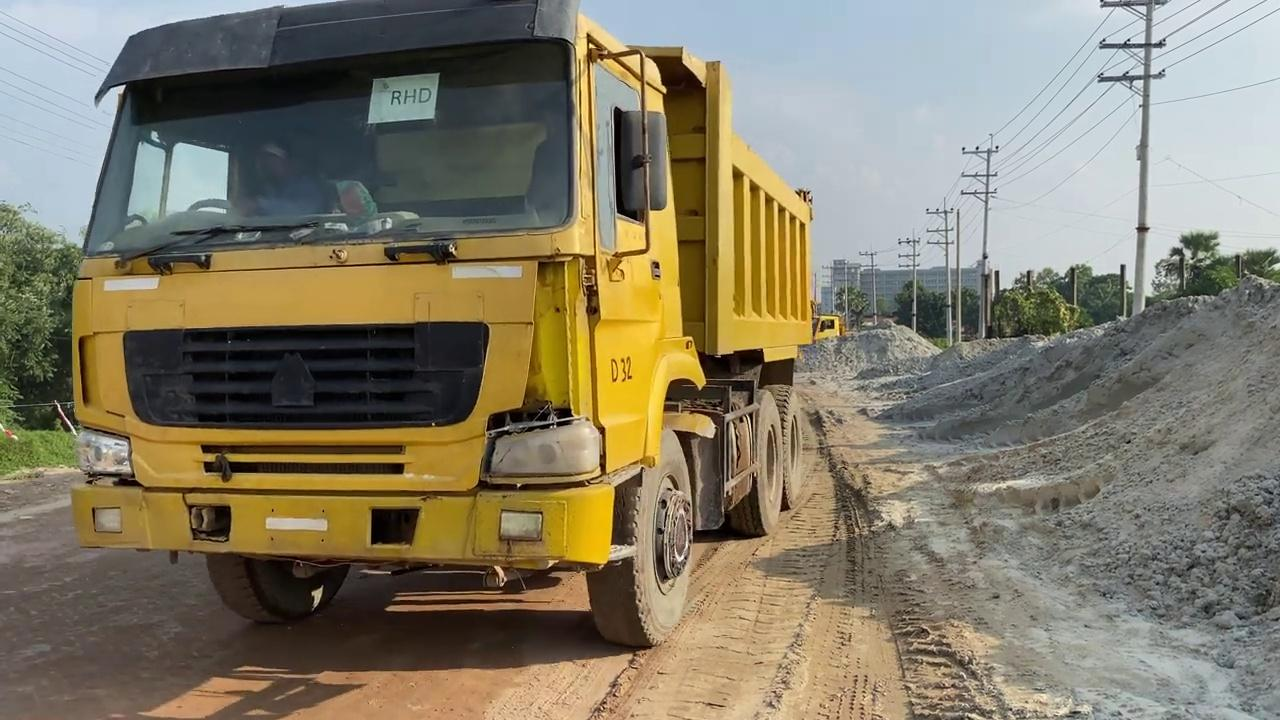Pole: (1097, 0, 1167, 315), (960, 143, 998, 338)
Traffic-sign: (0, 199, 82, 433)
Tree: (67, 0, 821, 649), (809, 299, 845, 344)
